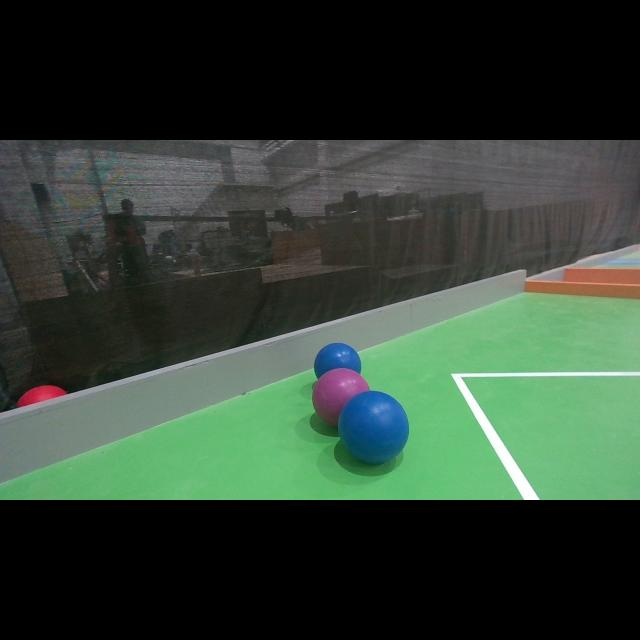B: (338, 391, 408, 465), (314, 342, 362, 380)
P: (310, 364, 370, 428)
